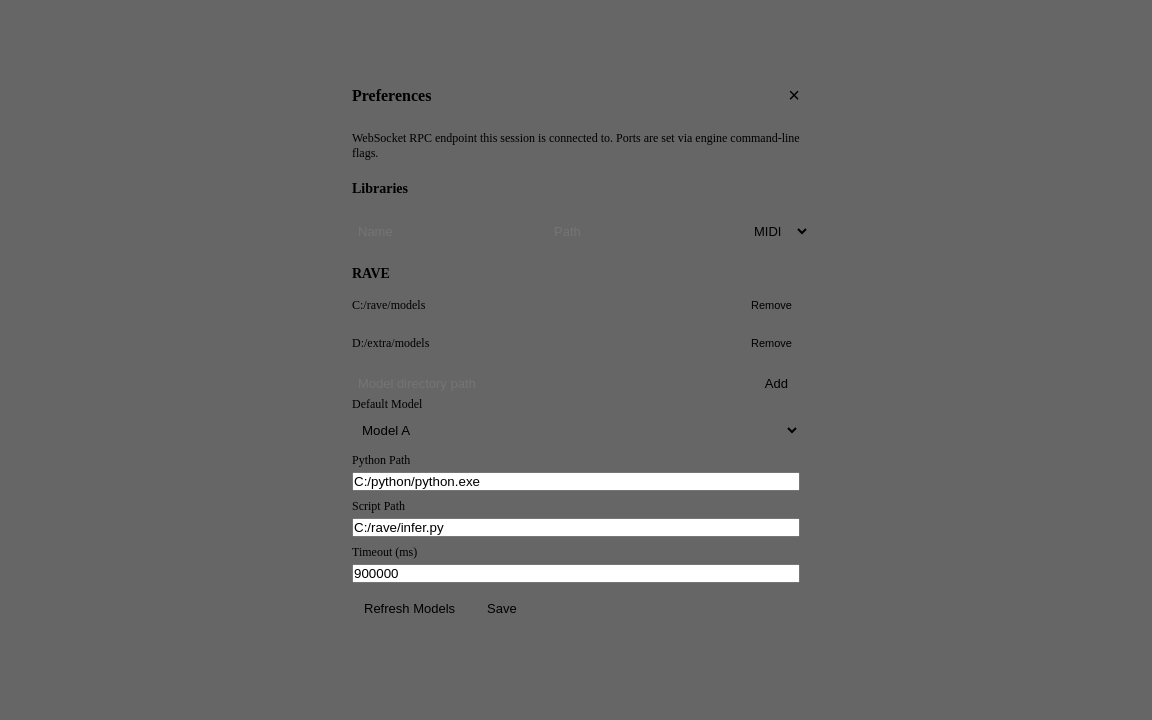
Test: PreferencesDialog RAVE section › add and remove model dir rows update the list
(page scrolled)
Expected: the heading "RAVE" is shown, [352,266,390,281]
Expected: the text titled "C:/rave/models" is shown, [352,298,425,312]
// Add a new dir.
Type "E:/new/models" into the field with placeholder "Model directory path" at (548,384), box [352,370,745,397]
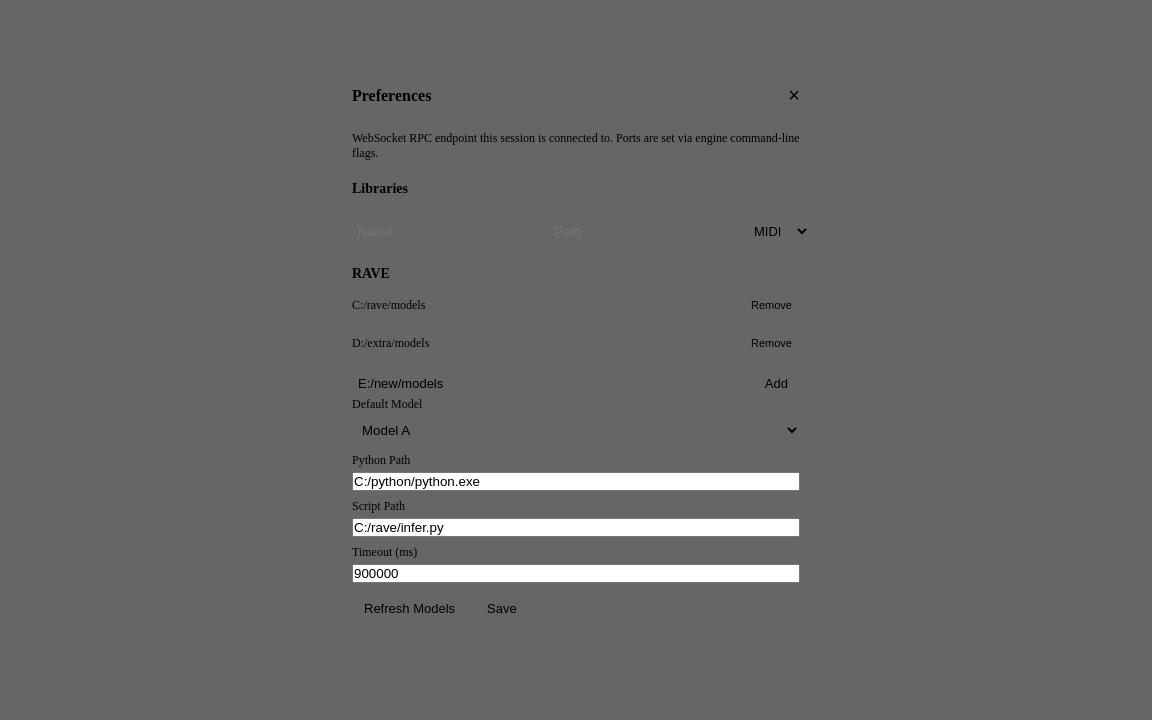
Click the button "Add" at (776,384), box [753,370,800,397]
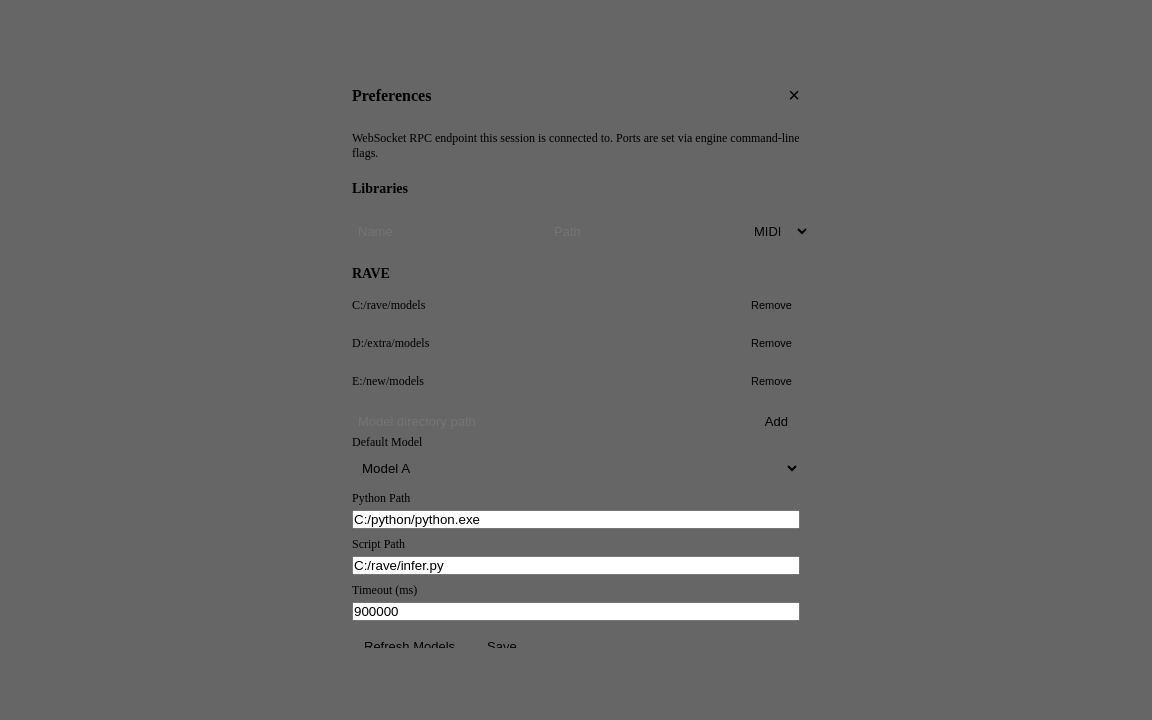
Expected: the text titled "E:/new/models" is shown, [352,374,424,388]
Expected: the field with placeholder "Model directory path" is empty, [352,408,745,435]
// Remove it again via its row's Remove button.
Click the button "Remove" in the row of "E:/new/models" at (772,381), box [743,372,800,390]
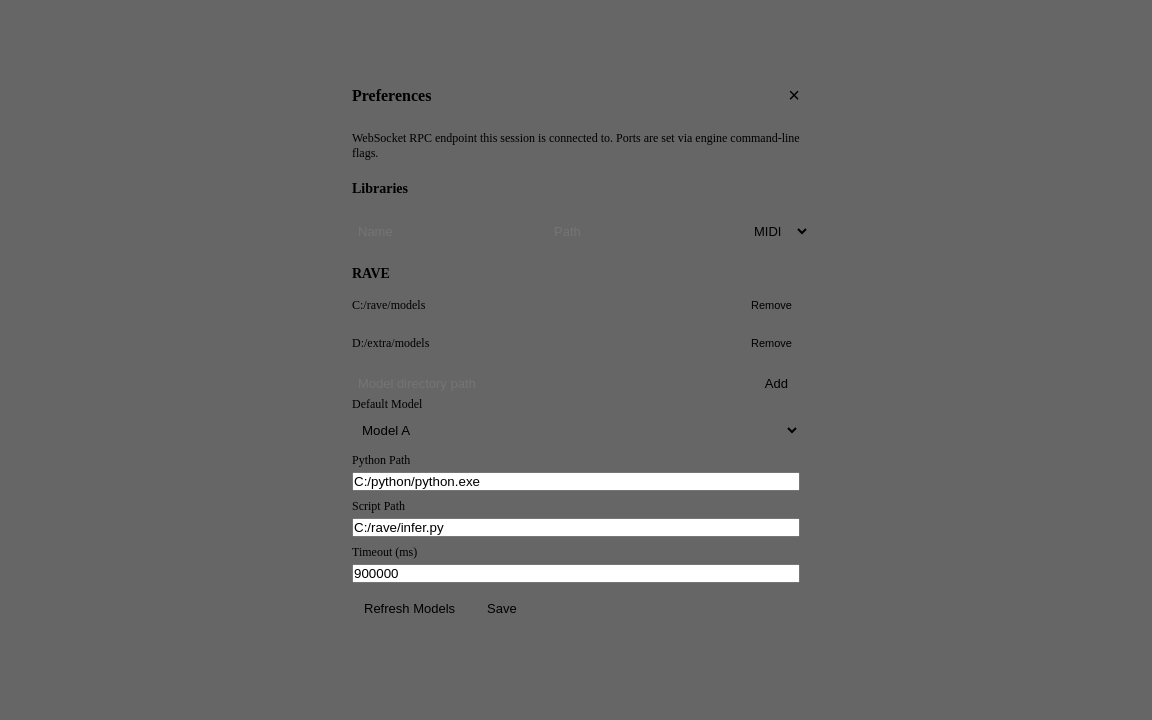
Expected: the text titled "C:/rave/models" is shown, [352,298,425,312]
Expected: the text titled "E:/new/models" is gone
